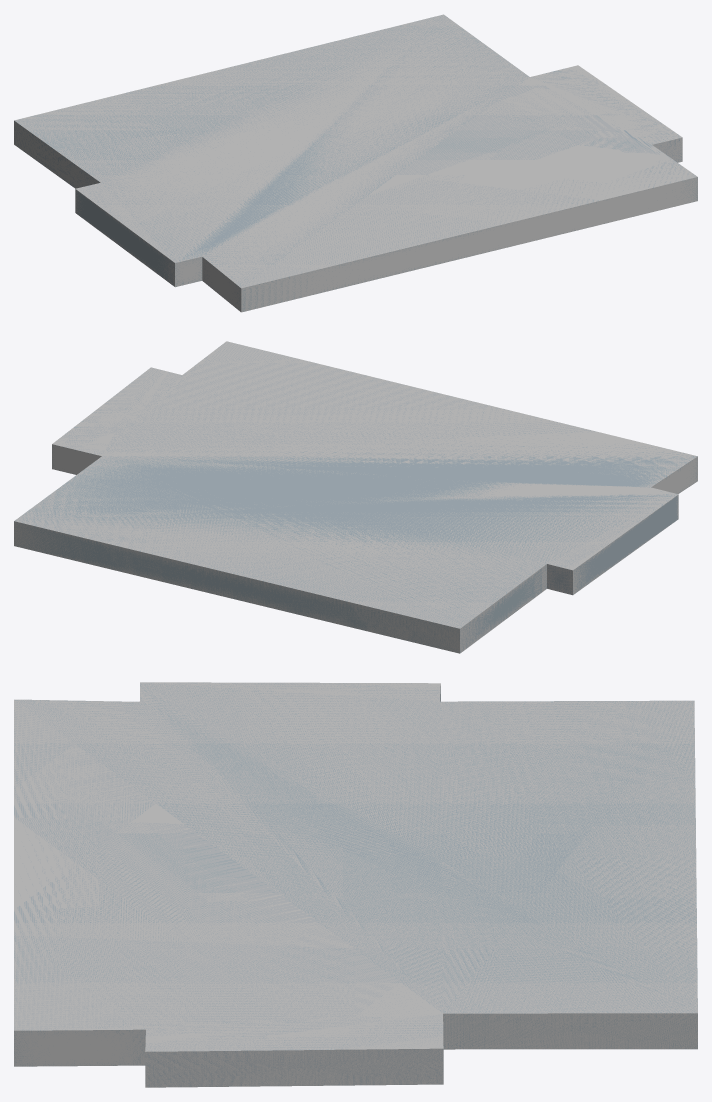
Rendered from GenericBuilding_Roof_2017_FBX.fbx.
3 renders of one model, top to bottom at view 1: azimuth 30°, elevation 25°; view 2: azimuth 150°, elevation 25°; view 3: azimuth 270°, elevation 25°, orthographic. The views are drawn at different scales.
Parts seen in each view (by area): view 1: Group1; view 2: Group1; view 3: Group1.
Boxes of the visible parts, left/top/right/bottom form: Group1: left=14, top=14, right=697, bottom=312; Group1: left=14, top=341, right=697, bottom=653; Group1: left=14, top=682, right=697, bottom=1087.
Bounding box in the file's own units: 40561 × 1836 × 31727.
